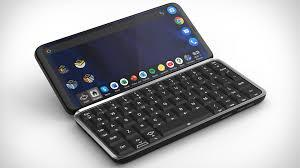Smartphone: (33, 6, 269, 165)
